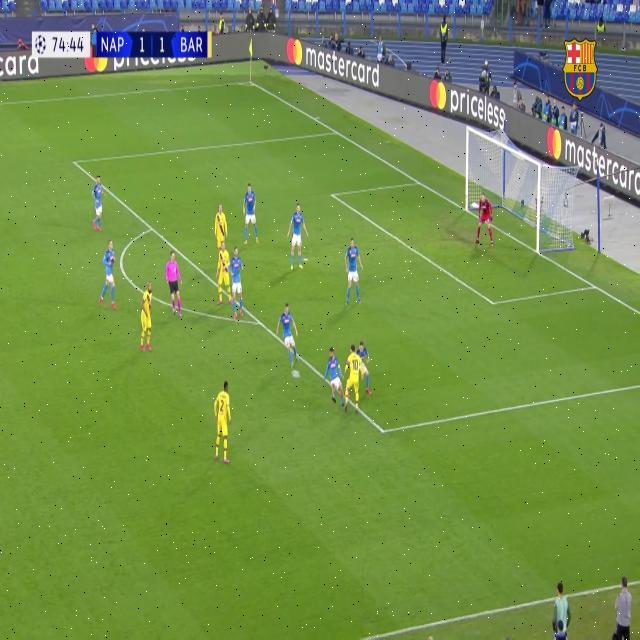Ball: (290, 370, 300, 381)
GoalKeeper: (472, 196, 496, 249)
TEAM 1: (216, 381, 235, 468), (343, 346, 363, 414), (211, 242, 230, 308), (140, 282, 156, 355), (213, 198, 230, 254)
TEAM 2: (275, 304, 300, 369), (286, 203, 308, 271), (322, 347, 343, 408), (98, 240, 116, 310), (344, 238, 362, 308), (357, 336, 372, 401), (242, 183, 257, 247), (90, 174, 105, 232), (230, 251, 243, 315)
